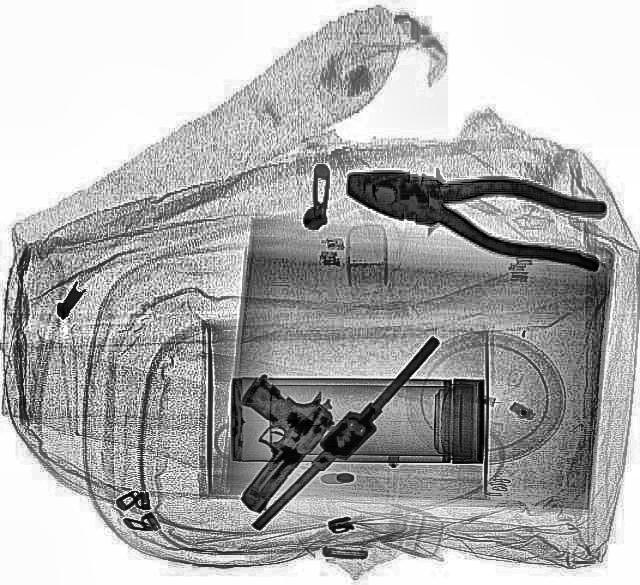Gun: (182, 362, 346, 516)
Pliers: (332, 149, 612, 271)
